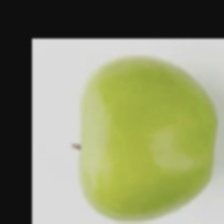apple: (26, 23, 173, 206)
